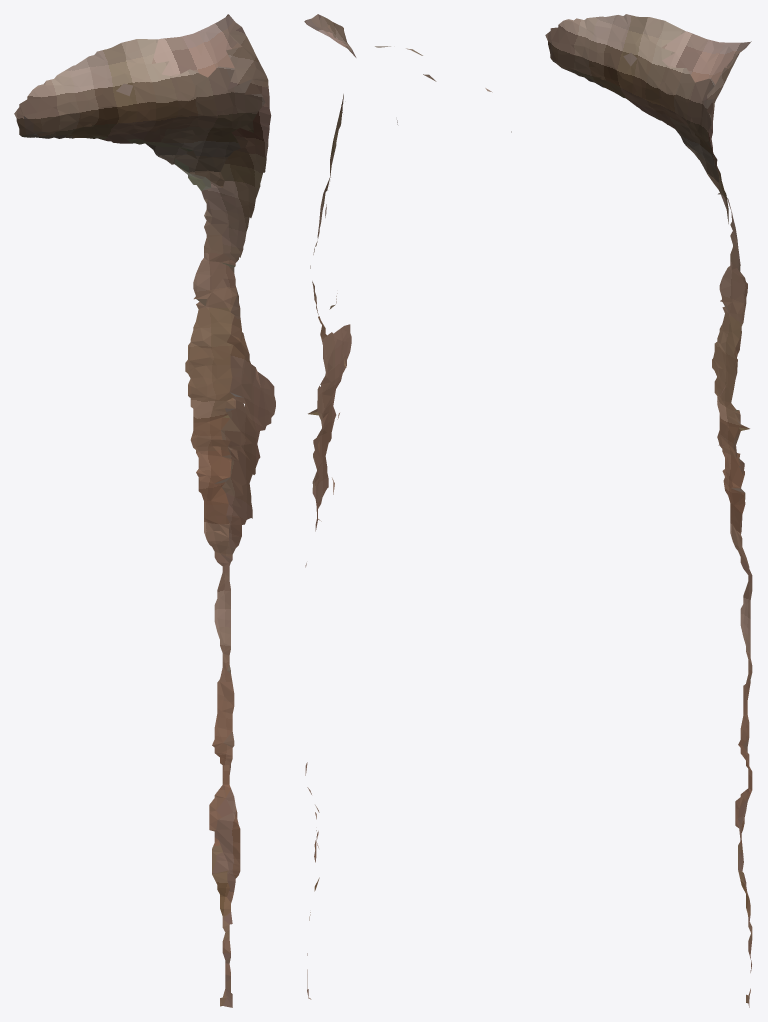
3 views of the same model, side by side, from view 1: azimuth 30°, elevation 25°; view 2: azimuth 150°, elevation 25°; view 3: azimuth 330°, elevation 25° (orthographic). The views are drawn at different scales.
Bounding box in the file's own units: 0.1539 × 0.681 × 0.0596.
Materials: 1 (1 with a texture image).
